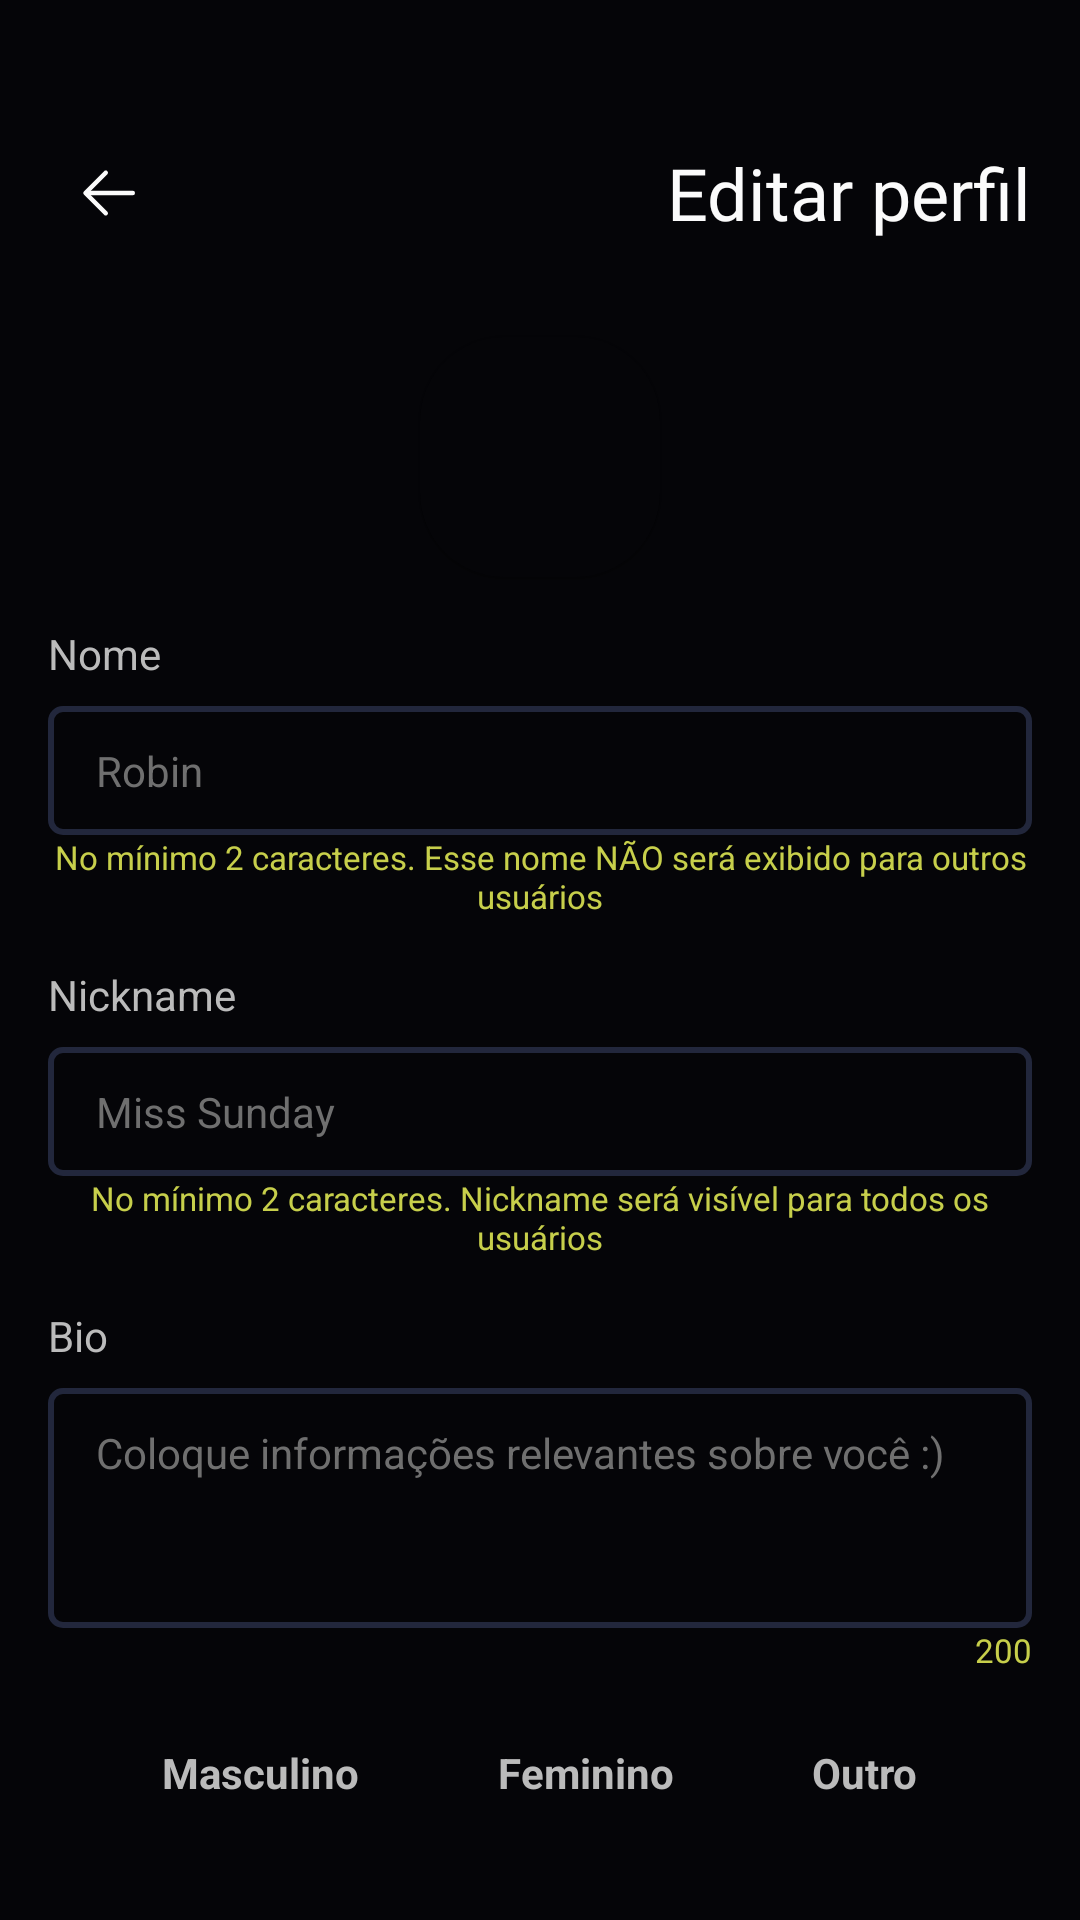

Locate icon controls on the screen. Image size 1080 x 1920, boxes as (x1, y1, x2, y2).
Botão de voltar: (83, 170, 135, 216)
